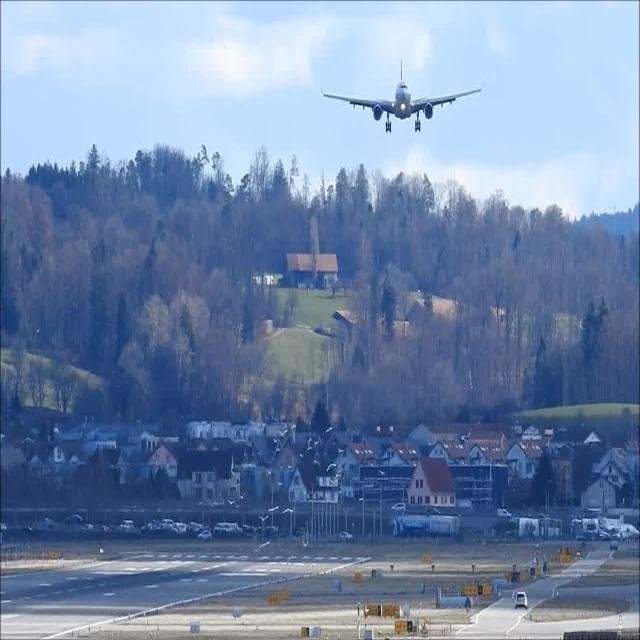bird: (324, 424, 334, 438), (326, 461, 336, 471), (258, 513, 268, 523), (377, 467, 386, 478), (282, 507, 292, 515), (311, 462, 321, 470), (238, 493, 246, 502), (278, 428, 286, 437), (288, 464, 294, 470), (312, 443, 318, 449), (277, 481, 282, 487), (299, 452, 303, 458)
